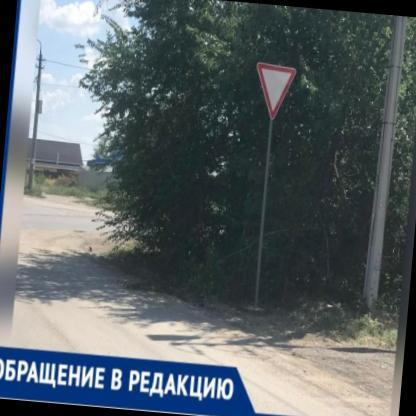road_sign: (257, 63, 296, 119)
